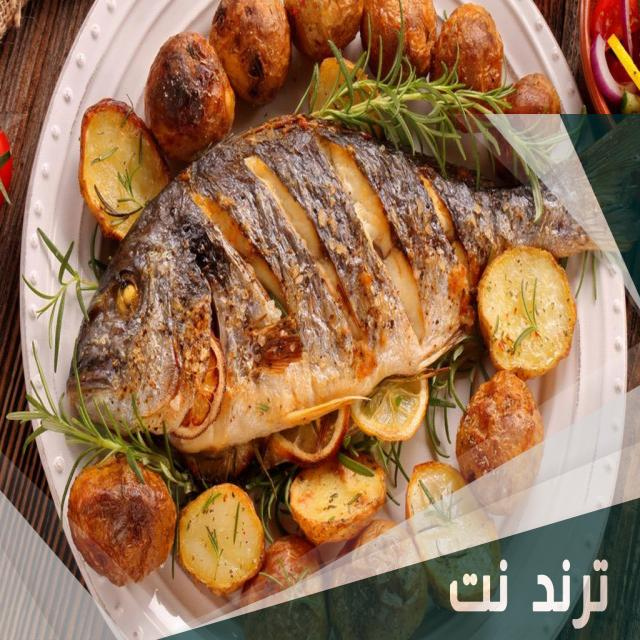Peixe: (65, 110, 598, 462), (66, 451, 177, 587)
